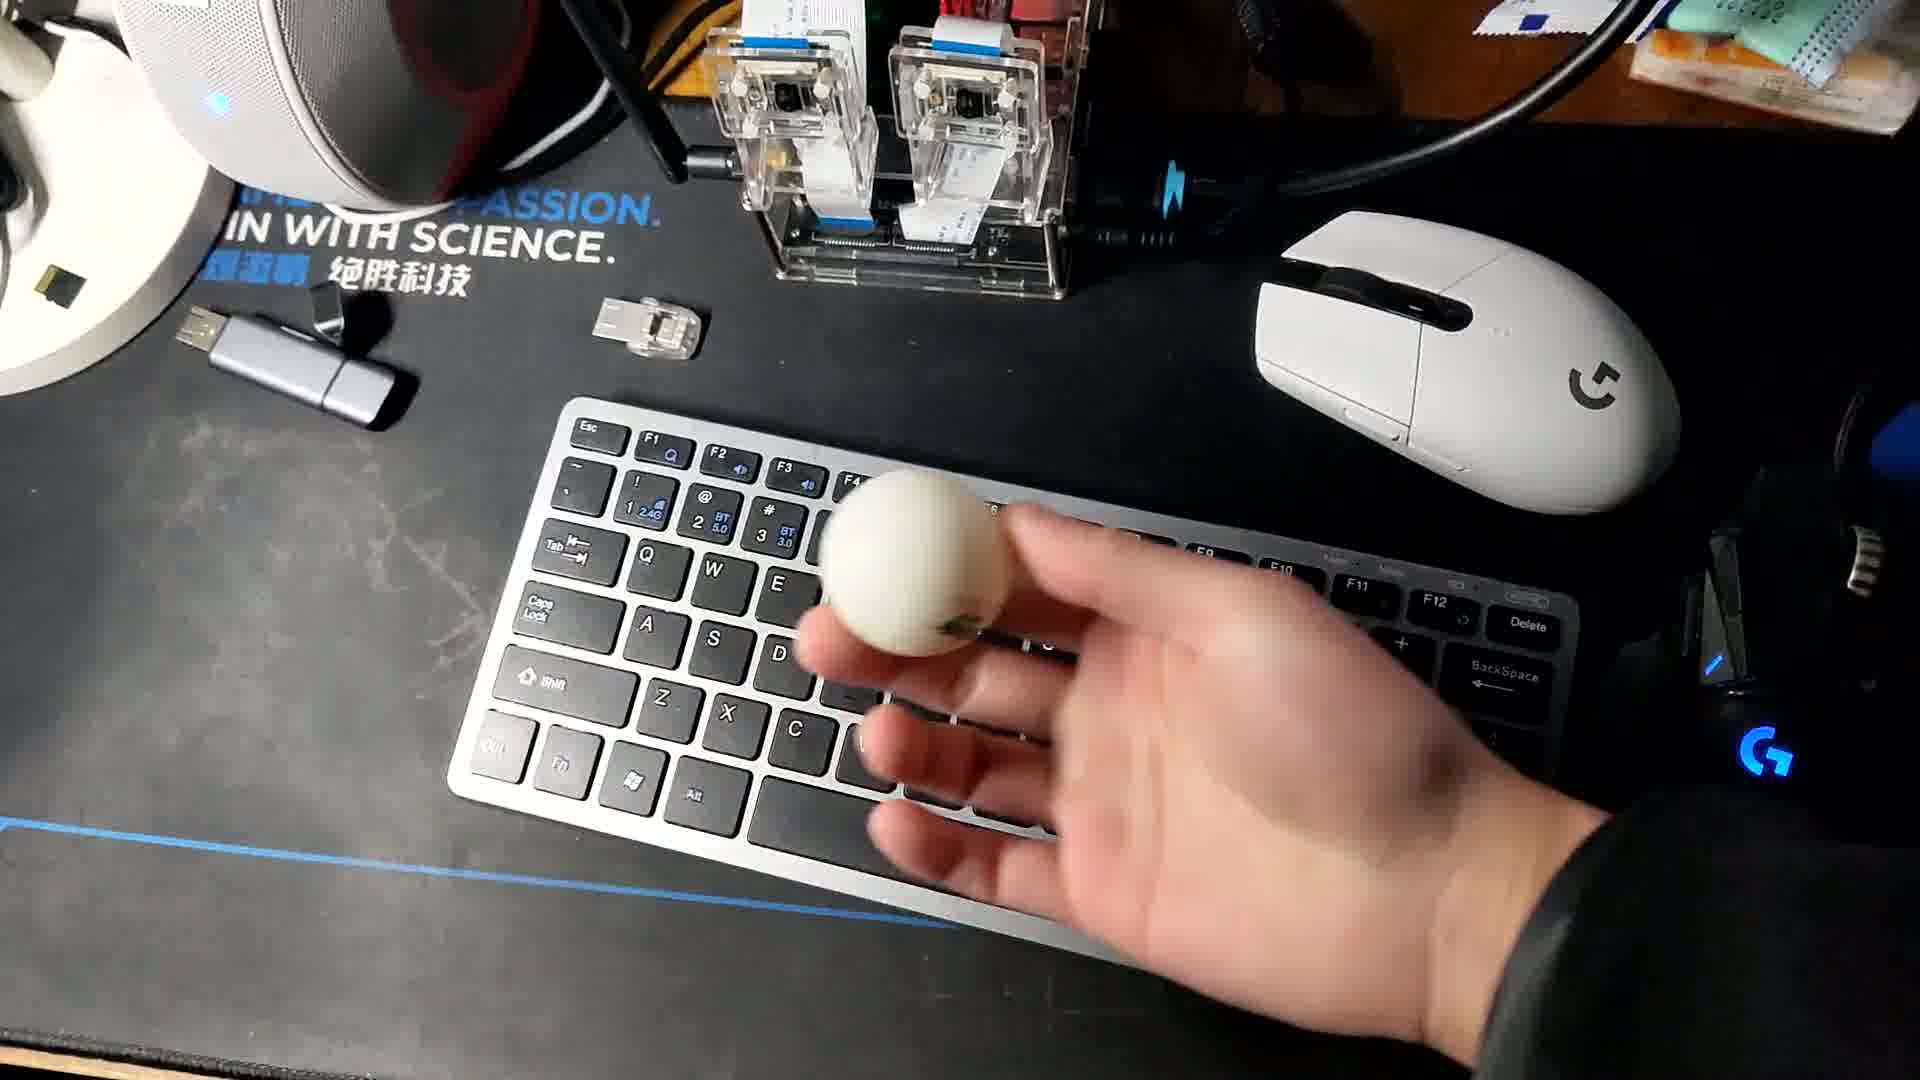Ball: (822, 468, 1015, 659)
